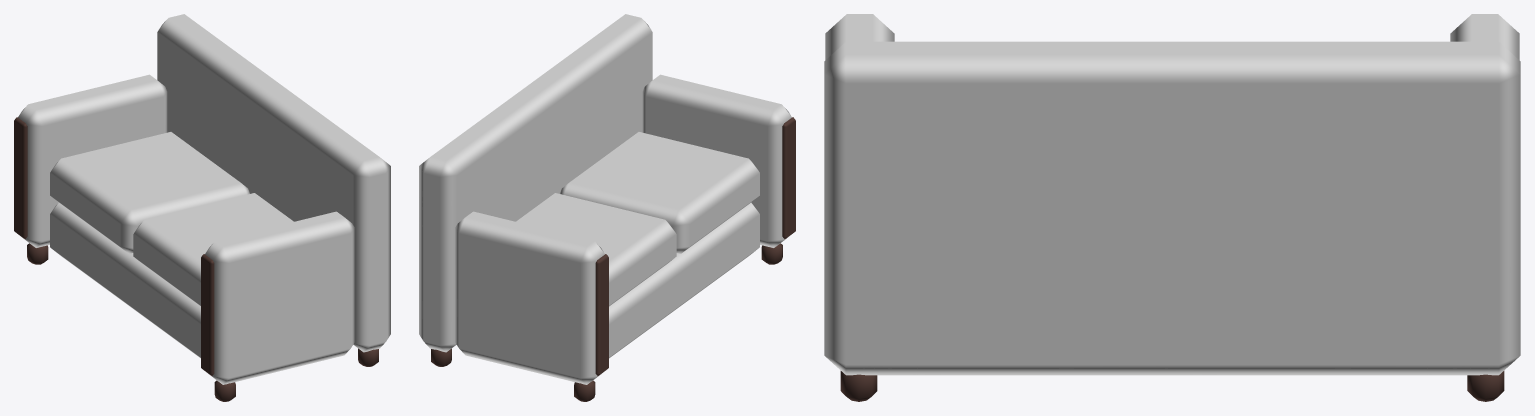
File: Sofa.fbx
3 renders of one model, left to right at view 1: azimuth 30°, elevation 25°; view 2: azimuth 150°, elevation 25°; view 3: azimuth 270°, elevation 25°, orthographic. The views are drawn at different scales.
Visible parts, largest first — view 1: Cube.013, Cube.014, Cube.011, Cube.015, Cube.016, Cylinder.003; view 2: Cube.013, Cube.014, Cube.011, Cube.015, Cube.016, Cylinder.003; view 3: Cube.014, Cube.013, Cylinder.003.
Part boxes in pixels (box(x1,y1,x2,y2)): Cube.013: box(18, 74, 354, 384); Cube.014: box(157, 14, 390, 352); Cube.011: box(50, 132, 293, 306); Cube.015: box(50, 202, 200, 358); Cube.016: box(14, 117, 214, 375); Cylinder.003: box(27, 243, 378, 401); Cube.013: box(455, 74, 791, 384); Cube.014: box(419, 14, 652, 352); Cube.011: box(516, 132, 759, 306); Cube.015: box(609, 202, 759, 358); Cube.016: box(595, 117, 795, 375); Cylinder.003: box(431, 243, 782, 401); Cube.014: box(824, 41, 1520, 375); Cube.013: box(825, 14, 1519, 59); Cylinder.003: box(840, 371, 1504, 401).
Size of the model in its own units: 131 by 144 by 260.
